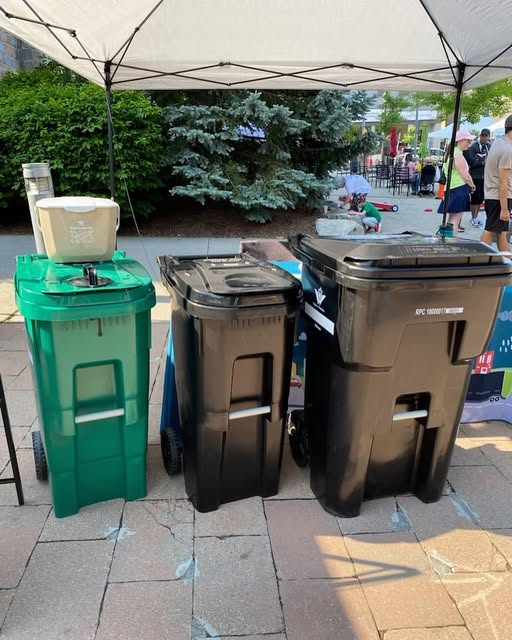bin_empty: (291, 232, 511, 516), (15, 249, 155, 515), (159, 254, 301, 511)
bulk_waste: (36, 196, 119, 262)
